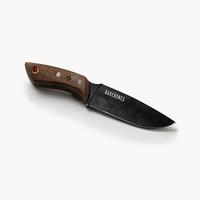knife: (22, 60, 179, 131)
